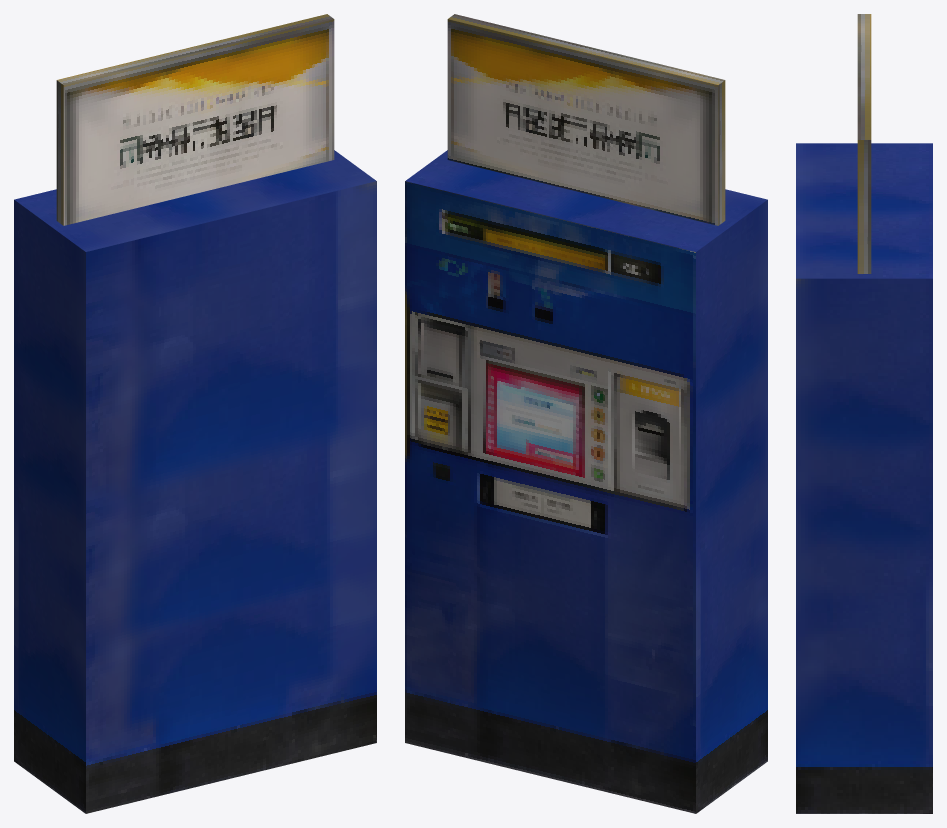
File: metro_ticket.glb
The picture shows the model from 3 angles, left to right: view 1: azimuth 30°, elevation 25°; view 2: azimuth 150°, elevation 25°; view 3: azimuth 270°, elevation 25°; orthographic projection. The views are drawn at different scales.
Parts seen in each view (by area): view 1: ticket_machine; view 2: ticket_machine; view 3: ticket_machine.
Boxes of the visible parts, x1,y1,x2,y2 form: ticket_machine: (14,14,376,813); ticket_machine: (405,14,767,813); ticket_machine: (796,14,932,813).
Bounding box in the file's own units: 0.97 × 2.24 × 0.4142.
1 material, 1 textured.
